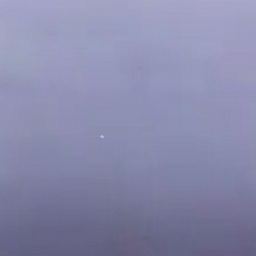Target: (98, 133, 105, 140)
